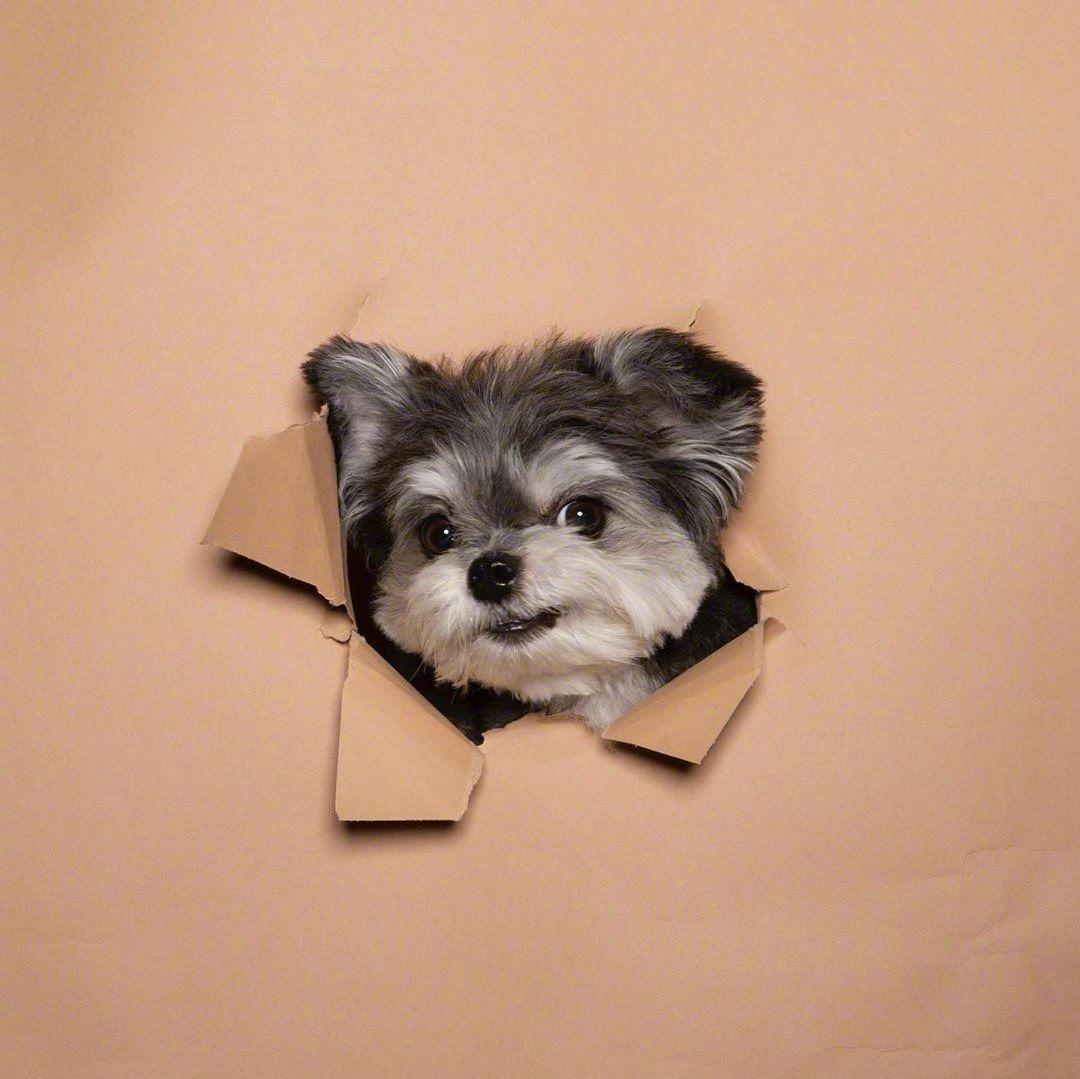puppy-dog: (302, 327, 766, 743)
